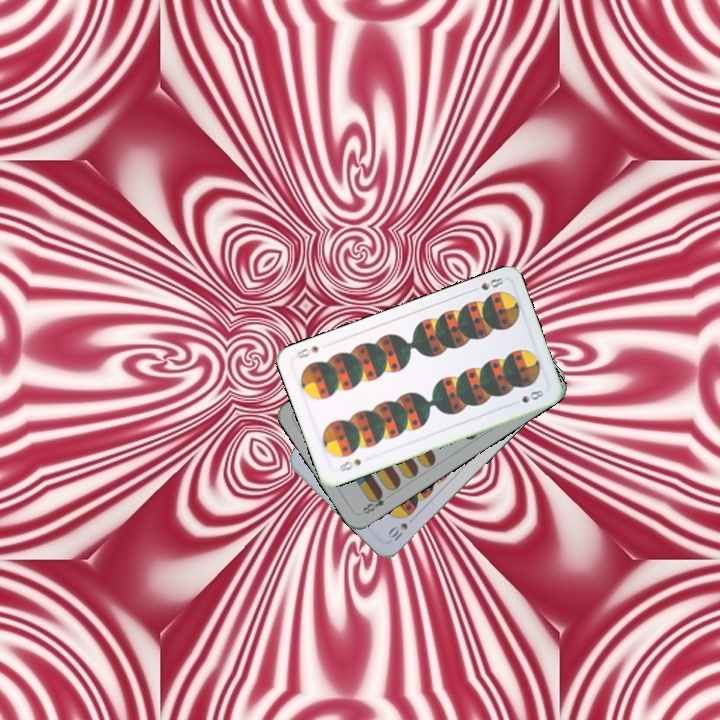E8: (357, 488, 388, 517)
S10: (384, 519, 410, 544)
S8: (466, 273, 506, 294), (335, 455, 364, 474)
